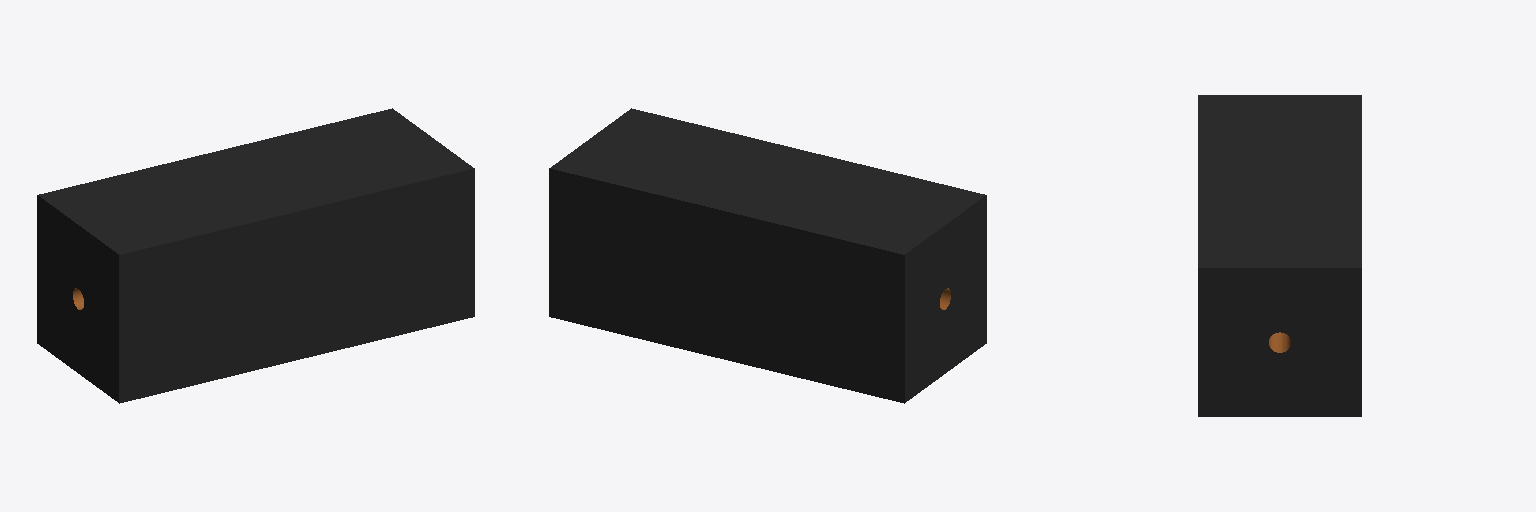
The model's file is holeaprile2.obj.
3 renders of one model, left to right at view 1: azimuth 30°, elevation 25°; view 2: azimuth 150°, elevation 25°; view 3: azimuth 270°, elevation 25°, orthographic.
Parts seen in each view (by area): view 1: 1; view 2: 1; view 3: 1, 3.
Boxes of the visible parts, <box> form: 1: <box>37,108,474,403</box>; 1: <box>549,108,986,403</box>; 1: <box>1198,95,1361,267</box>; 3: <box>1198,268,1361,416</box>.
Size of the model in its own units: 2 by 0.8 by 0.8.